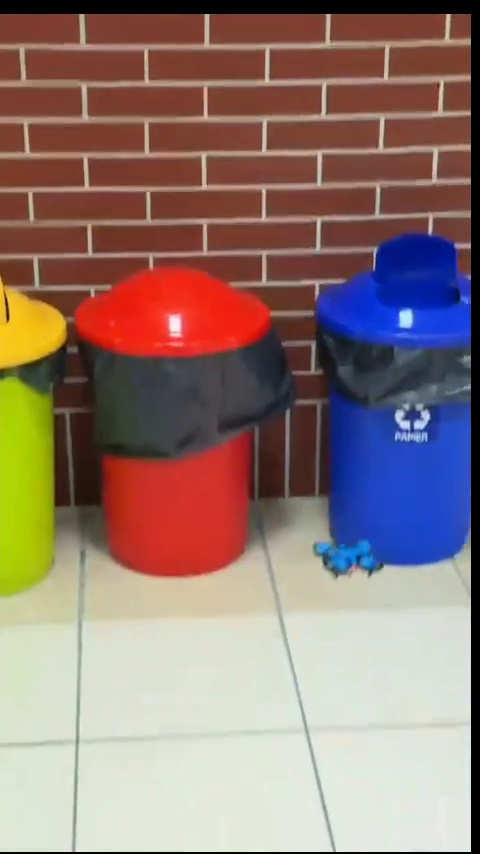drone: (314, 540, 383, 577)
